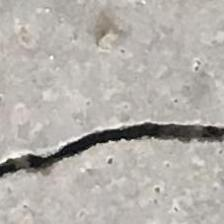Crack: (0, 89, 224, 192)
